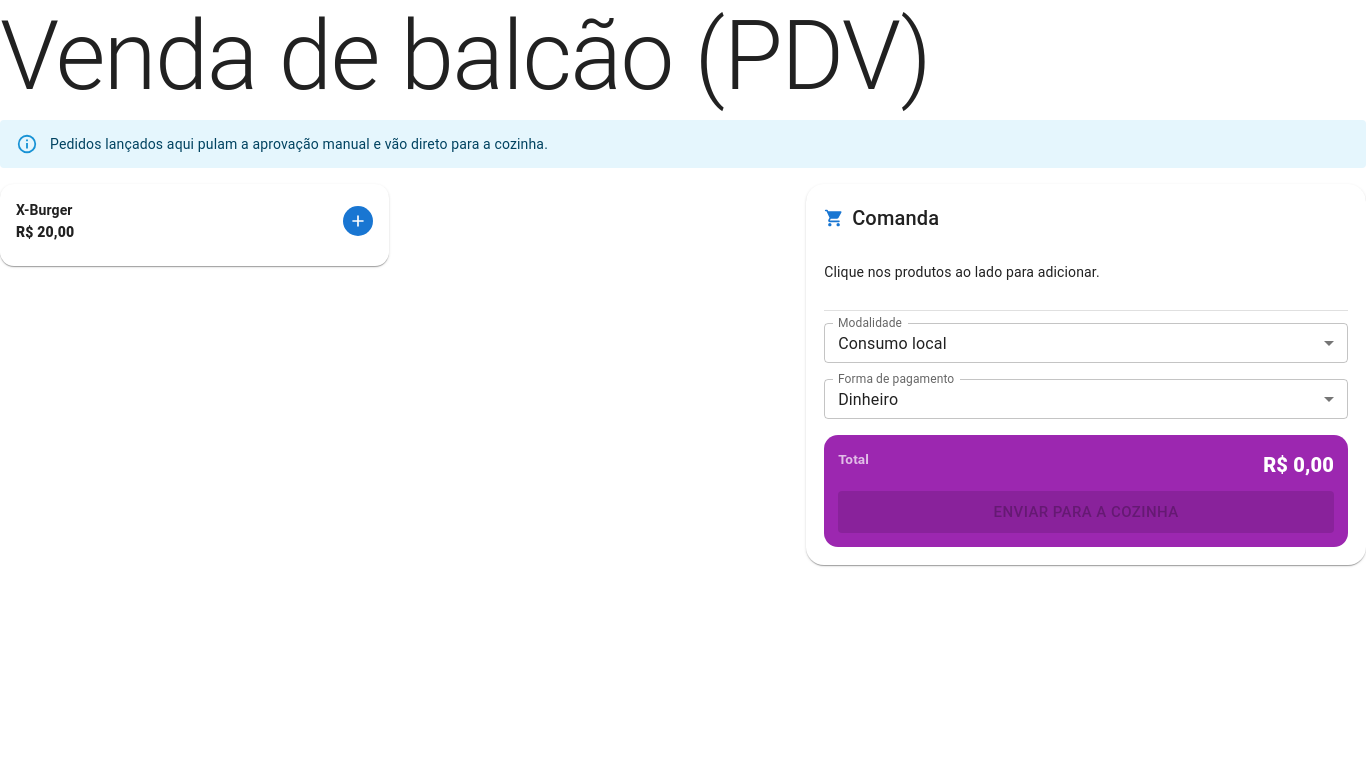
Test: PdvPage › finaliza a venda de consumo local e mostra o recibo
Click the heading "X-Burger" at (45,211), box left=16, top=200, right=74, bottom=222
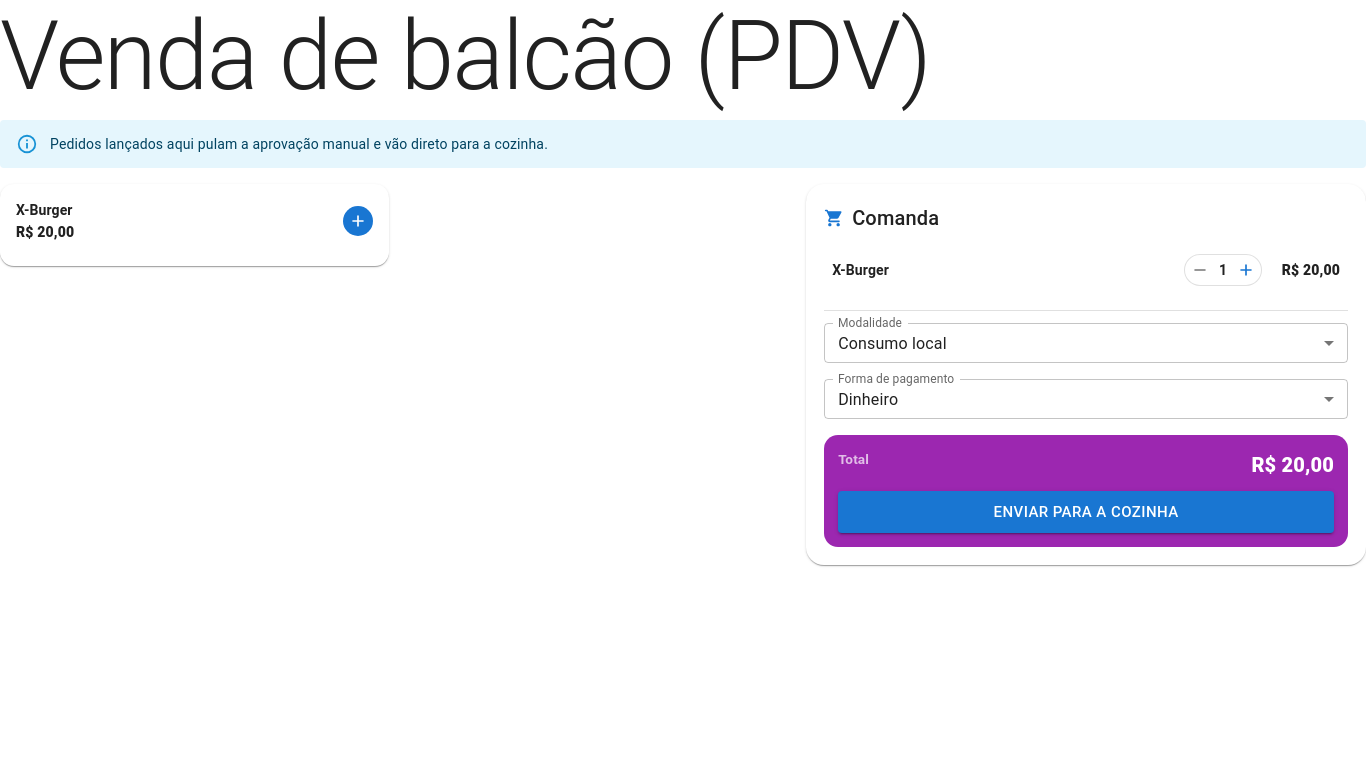
Click the button "Enviar para a cozinha" at (1086,512), box left=838, top=491, right=1334, bottom=533
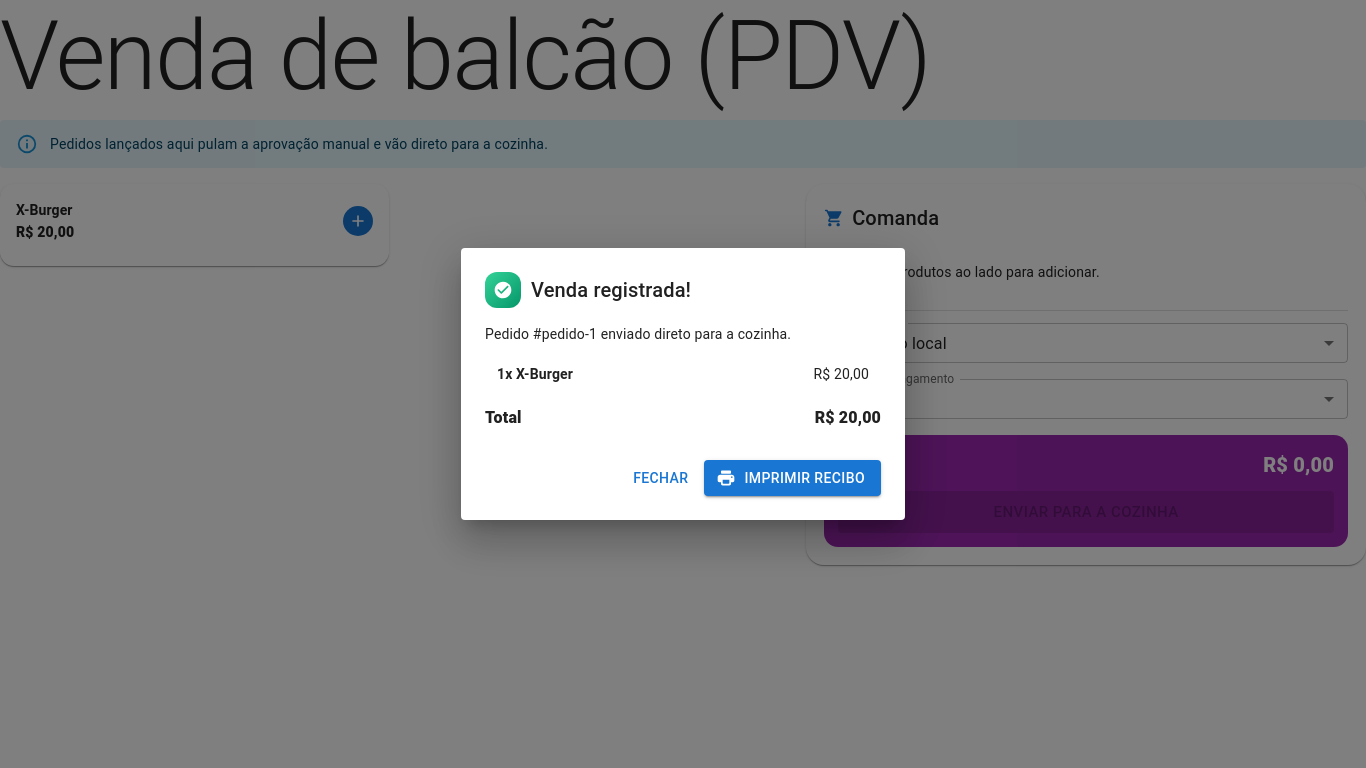
Expected: the heading "Venda registrada!" is shown, left=485, top=272, right=691, bottom=308
